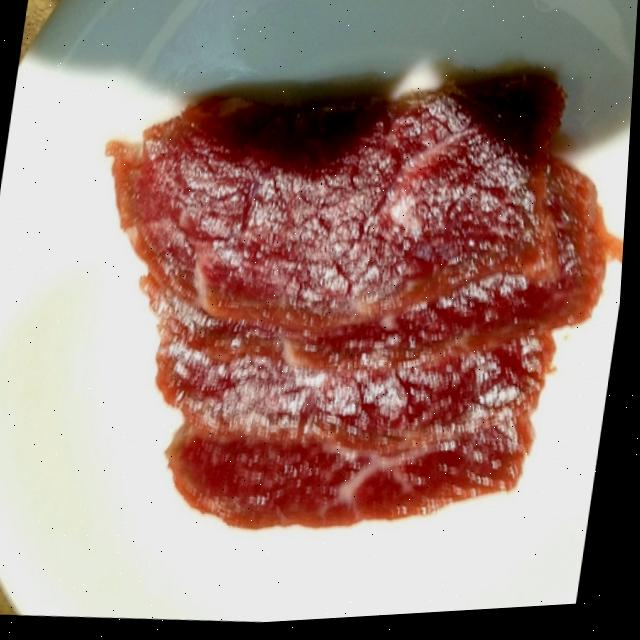刺身生食: (44, 19, 638, 593)
